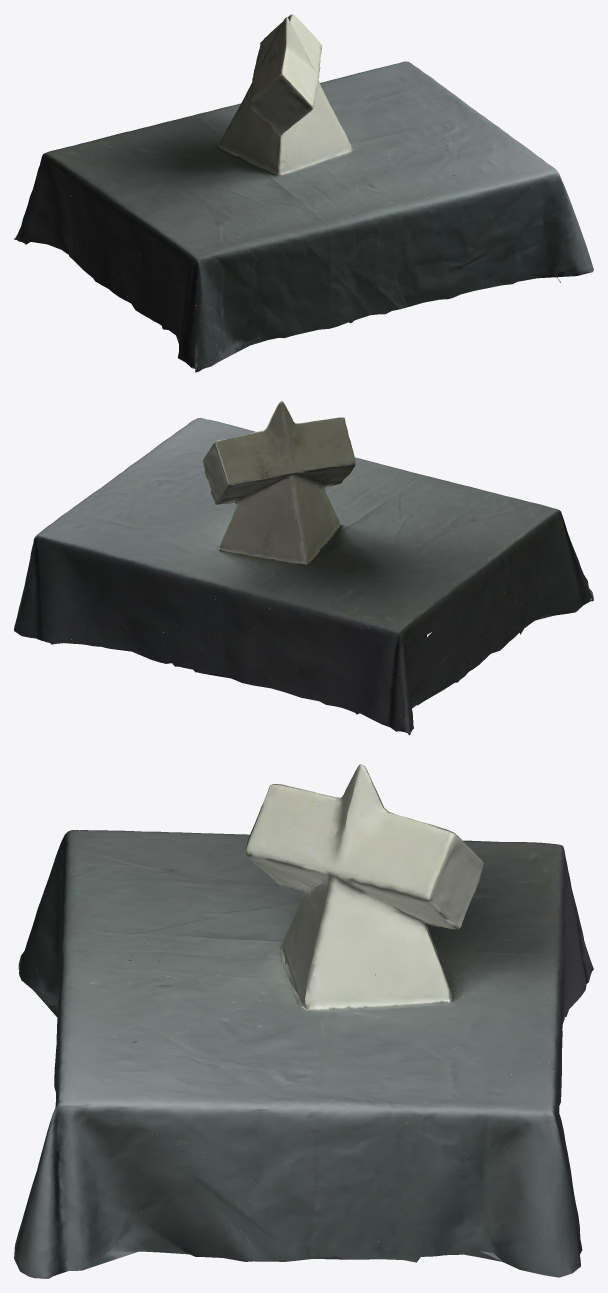
Rendered from 静物_几何体_异形多面体05_opt.glb.
3 renders of one model, top to bottom at view 1: azimuth 30°, elevation 25°; view 2: azimuth 150°, elevation 25°; view 3: azimuth 270°, elevation 25°, orthographic. The views are drawn at different scales.
Visible parts, largest first — view 1: defaultMat, defaultMat_1; view 2: defaultMat, defaultMat_1; view 3: defaultMat, defaultMat_1.
Boxes of the visible parts, x1=… form: defaultMat: x1=14, y1=14, x2=593, y2=372; defaultMat_1: x1=22, y1=16, x2=573, y2=370; defaultMat: x1=14, y1=401, x2=593, y2=735; defaultMat_1: x1=23, y1=403, x2=593, y2=732; defaultMat: x1=14, y1=764, x2=593, y2=1278; defaultMat_1: x1=18, y1=767, x2=590, y2=1278.
Size of the model in its own units: 0.5575 by 0.3 by 0.4373.
1 material, 1 textured.
